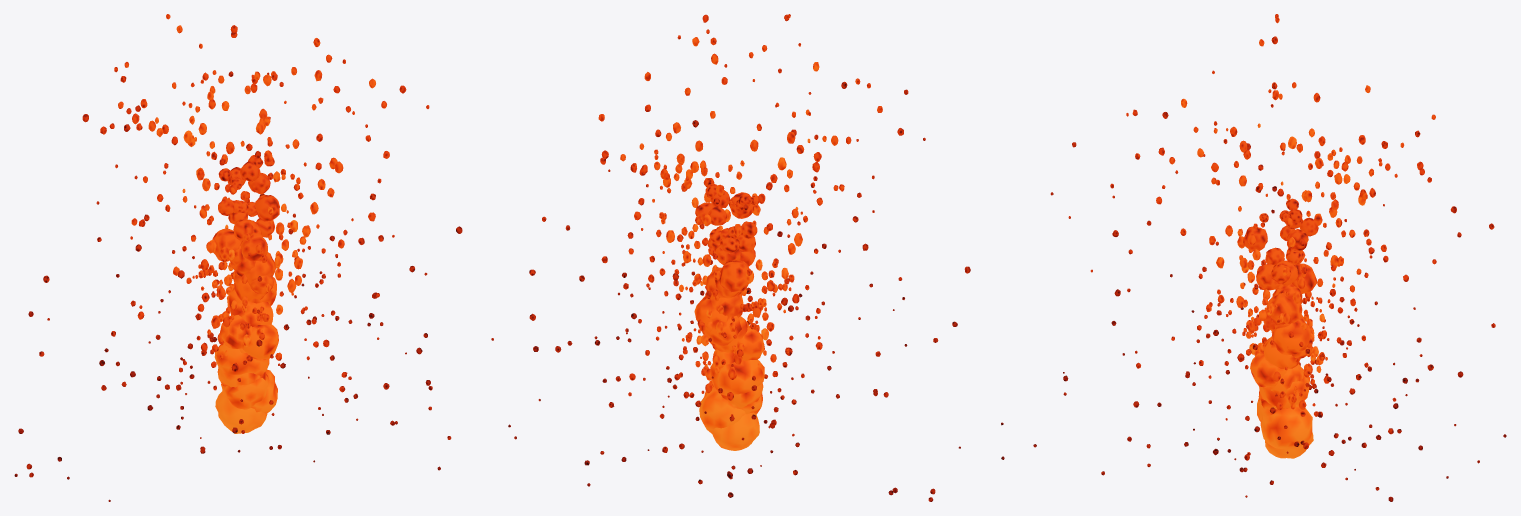
File: lava_fountain_b.glb
3 views of the same model, side by side, from view 1: azimuth 30°, elevation 25°; view 2: azimuth 150°, elevation 25°; view 3: azimuth 270°, elevation 25° (orthographic). The views are drawn at different scales.
Size of the model in its own units: 89.4 by 74.39 by 82.18.
